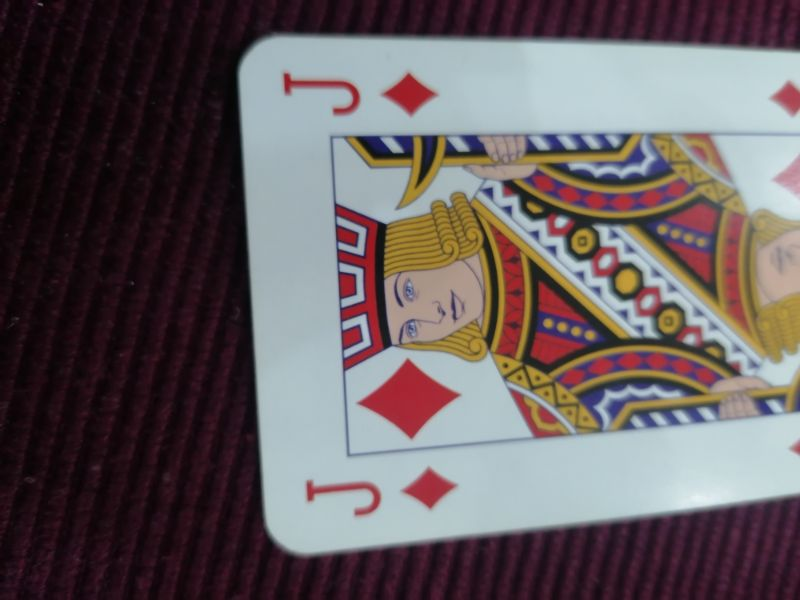Jd: (270, 59, 446, 120), (298, 463, 464, 520)
